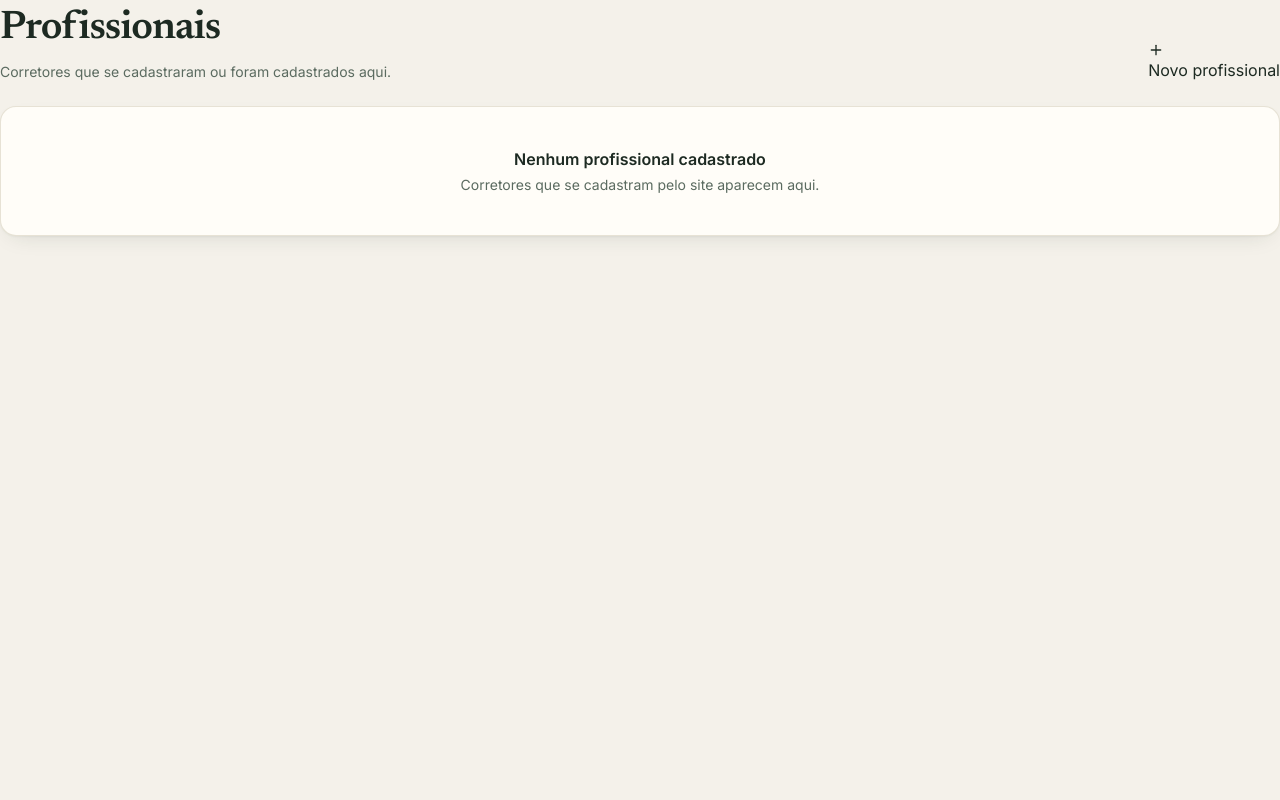
BrokersPage › cria o profissional escolhendo uma imobiliária pré-cadastrada
The width and height of the screenshot is (1280, 800).
Later steps or results of the test are not shown.
Click the button "Novo profissional": (1214,62) [1148,42,1279,82]
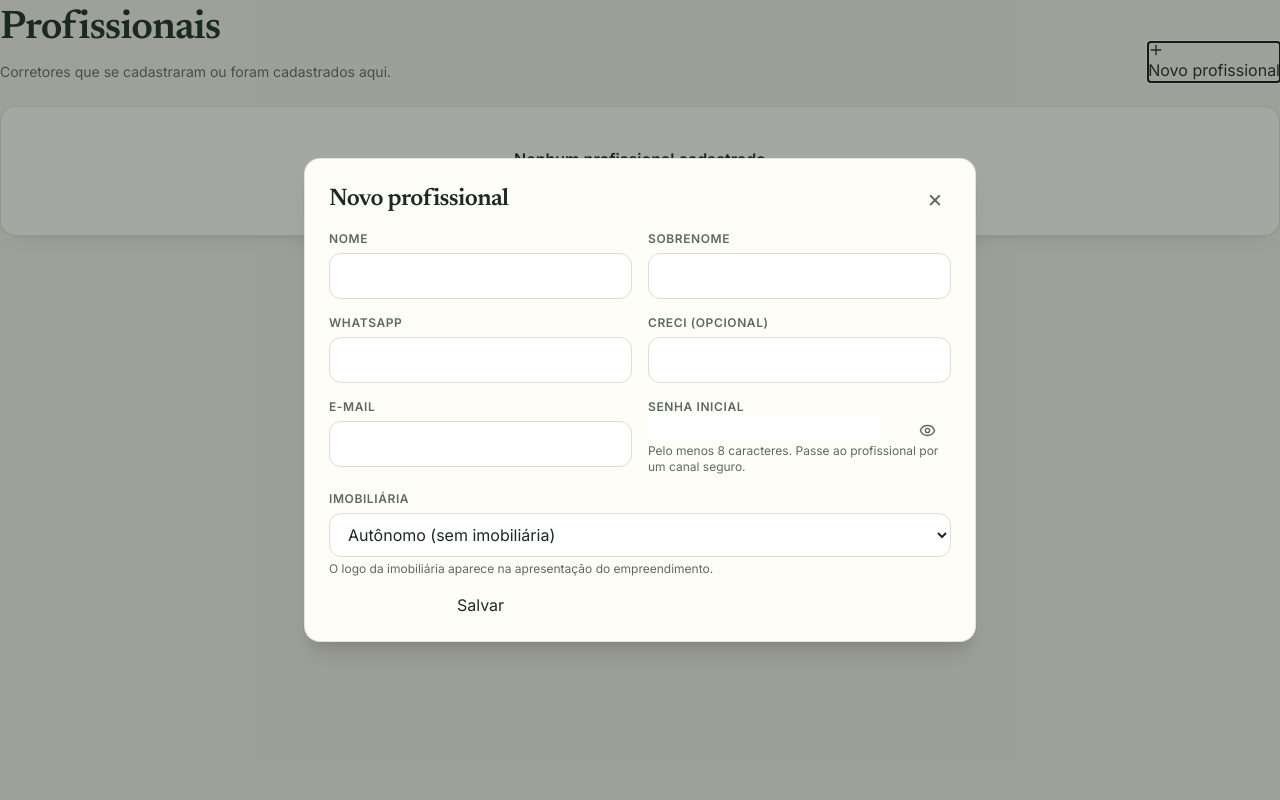
Now the dropdown labelled "Imobiliária" shows "Autônomo (sem imobiliária)", box [329,513,951,557]
